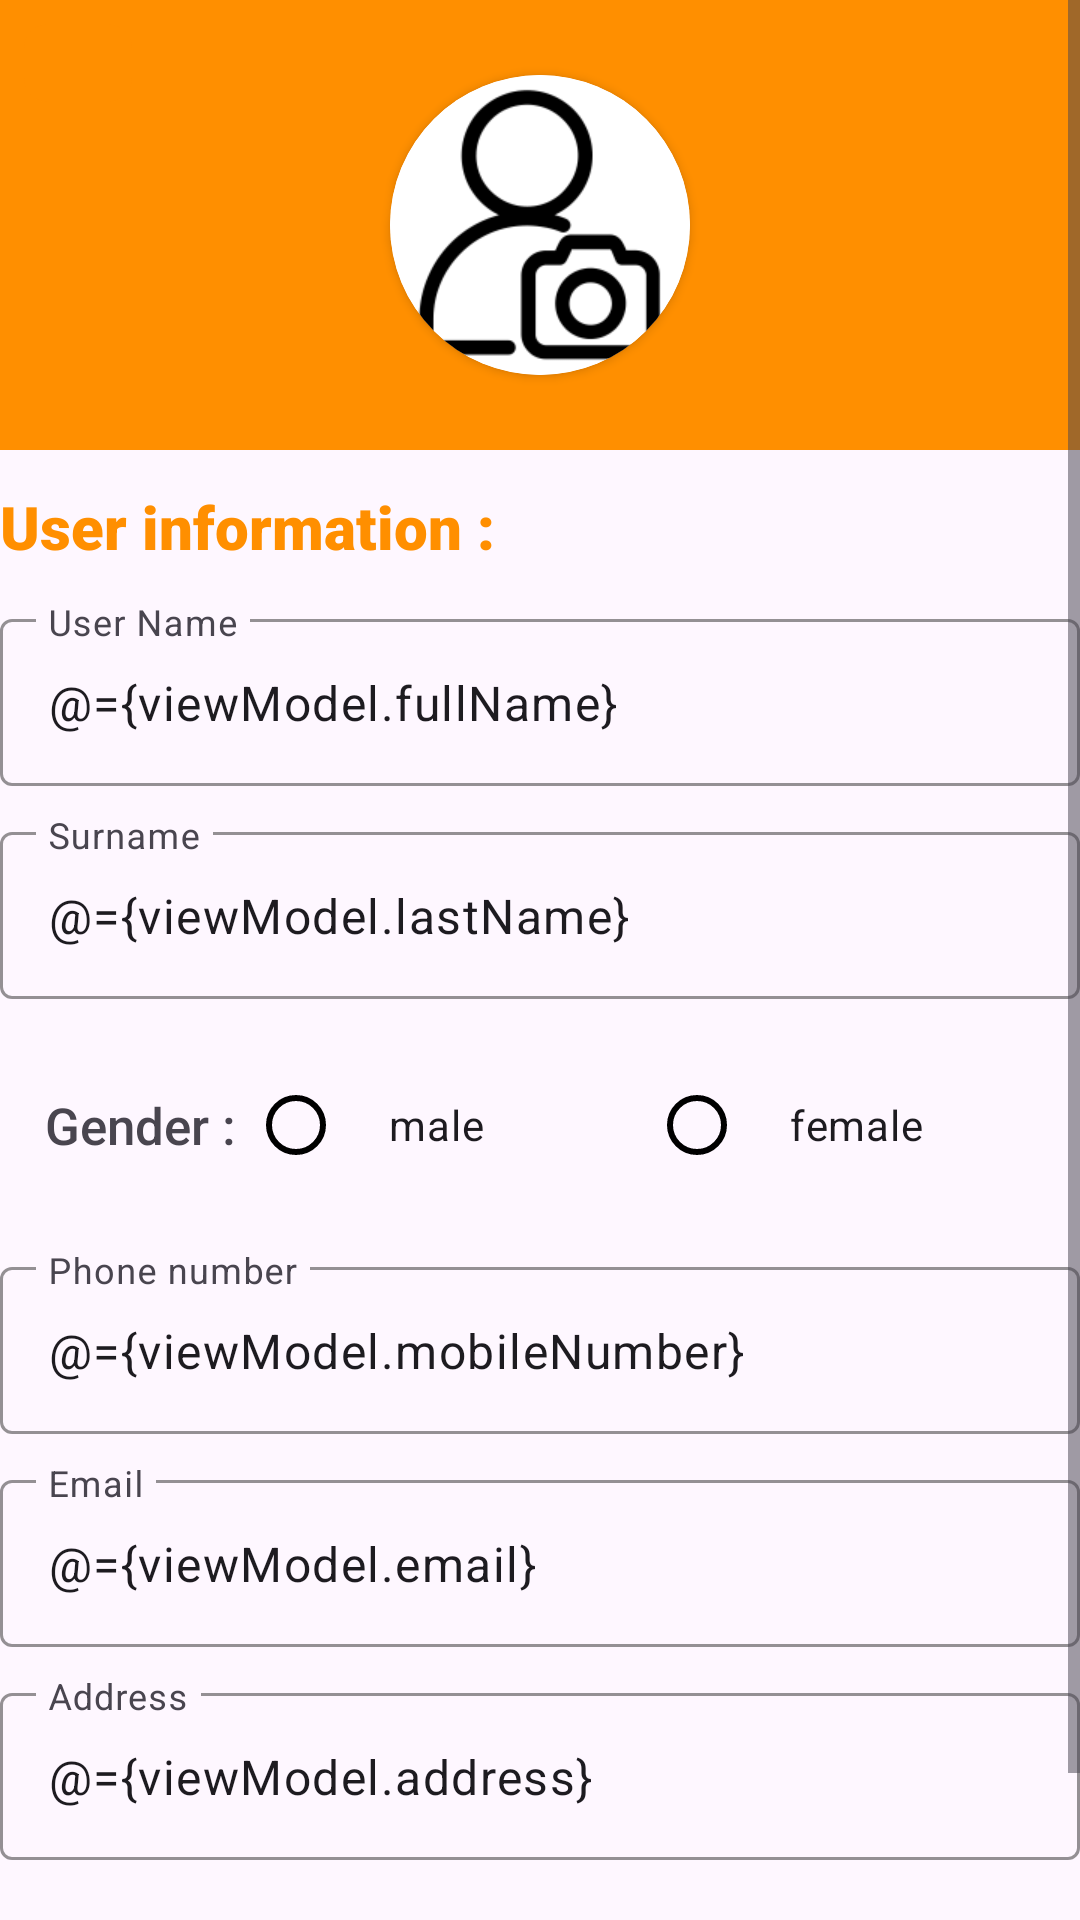

Named icons in this screenshot (1080x1920) and their bounding boxes, [left=x1, top=y1, right=x2, bottom=y2]:
usercamera: [left=390, top=75, right=690, bottom=375]
